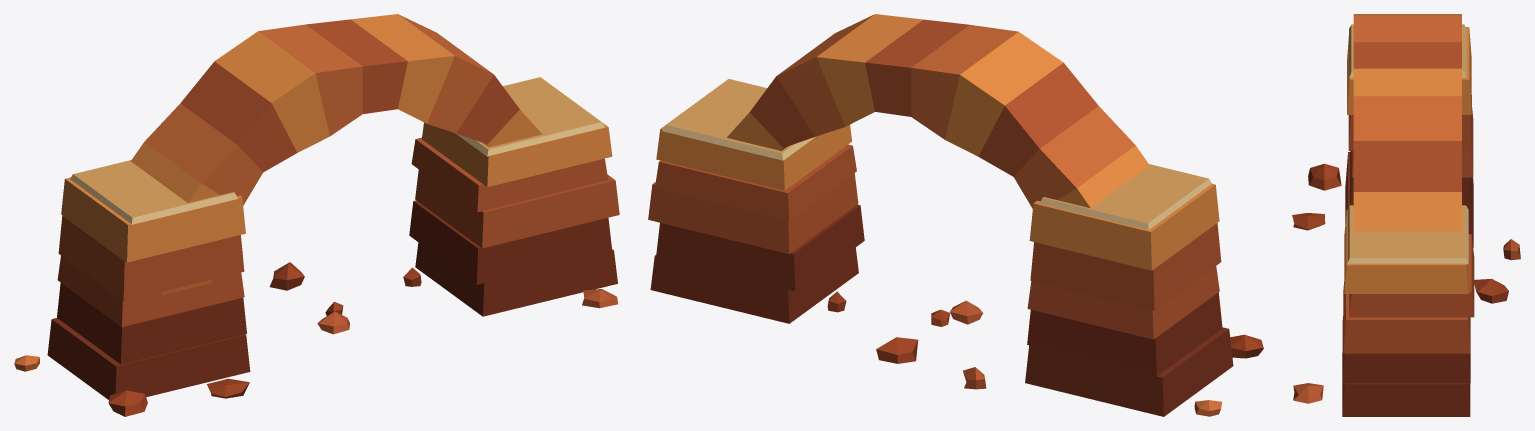
Rendered from W5_Mid_NaturalArch.fbx.
The picture shows the model from 3 angles, left to right: view 1: azimuth 30°, elevation 25°; view 2: azimuth 150°, elevation 25°; view 3: azimuth 270°, elevation 25°; orthographic projection. The views are drawn at different scales.
Parts seen in each view (by area): view 1: W5_Mid_NaturalArch; view 2: W5_Mid_NaturalArch; view 3: W5_Mid_NaturalArch.
Boxes of the visible parts, bbox=[...] form: W5_Mid_NaturalArch: bbox=[14, 14, 619, 416]; W5_Mid_NaturalArch: bbox=[648, 14, 1263, 416]; W5_Mid_NaturalArch: bbox=[1292, 14, 1520, 416].
Bounding box in the file's own units: 122 × 59.1 × 46.43.
